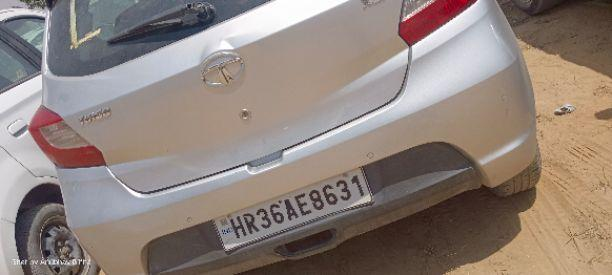license_plate: (211, 165, 374, 254)
